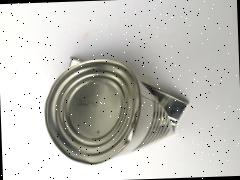metal: (30, 24, 206, 180)
